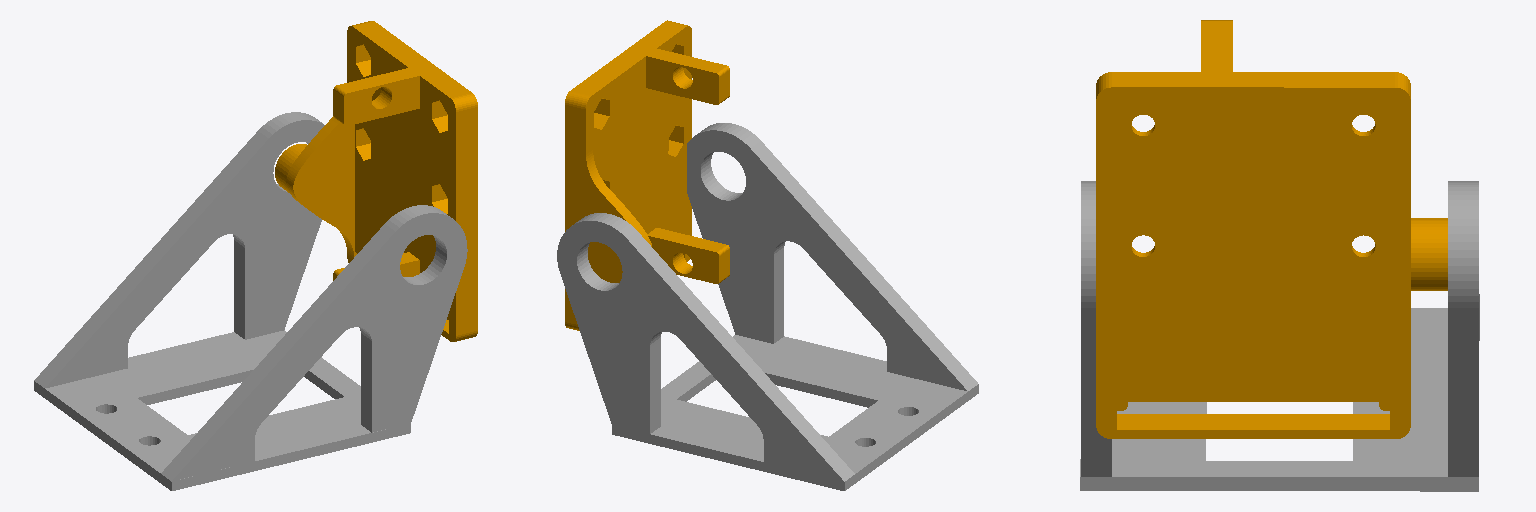
URDF robot description (turtlebot3_burger_chapter4):
<?xml version="1.0" ?>
<robot name="turtlebot3_burger_chapter4"
  xmlns:xacro="http://ros.org/wiki/xacro">
  <!-- <xacro:include filename="$(find turtlebot3_description)/urdf/common_properties.urdf"/> -->

  <!-- Init colour -->
  <material name="black">
      <color rgba="0.0 0.0 0.0 1.0"/>
  </material>

  <material name="dark">
    <color rgba="0.3 0.3 0.3 1.0"/>
  </material>

  <material name="light_black">
    <color rgba="0.4 0.4 0.4 1.0"/>
  </material>

  <material name="blue">
    <color rgba="0.0 0.0 0.8 1.0"/>
  </material>

  <material name="green">
    <color rgba="0.0 0.8 0.0 1.0"/>
  </material>

  <material name="grey">
    <color rgba="0.5 0.5 0.5 1.0"/>
  </material>

  <material name="orange">
    <color rgba="1.0 0.4235 0.0392 1.0"/>
  </material>

  <material name="brown">
    <color rgba="0.8706 0.8118 0.7647 1.0"/>
  </material>

  <material name="red">
    <color rgba="0.8 0.0 0.0 1.0"/>
  </material>

  <material name="white">
    <color rgba="1.0 1.0 1.0 1.0"/>
  </material>

  <link name="base_footprint"/>

  <joint name="base_joint" type="fixed">
    <parent link="base_footprint"/>
    <child link="base_link"/>
    <origin xyz="0.0 0.0 0.010" rpy="0 0 0"/>
  </joint>

  <link name="base_link">
    <visual>
      <origin xyz="-0.032 0 0.0" rpy="0 0 0"/>
      <geometry>
        <mesh filename="package://turtlebot3_description/meshes/bases/burger_base.stl" scale="0.001 0.001 0.001"/>
      </geometry>
      <material name="light_black"/>
    </visual>

    <collision>
      <origin xyz="-0.032 0 0.070" rpy="0 0 0"/>
      <geometry>
        <box size="0.140 0.140 0.143"/>
      </geometry>
    </collision>

    <inertial>
      <origin xyz="0 0 0" rpy="0 0 0"/>
      <mass value="8.2573504e-01"/>
      <inertia ixx="2.2124416e-03" ixy="-1.2294101e-05" ixz="3.4938785e-05" iyy="2.1193702e-03" iyz="-5.0120904e-06" izz="2.0064271e-03" />
    </inertial>
  </link>

  <joint name="wheel_left_joint" type="continuous">
    <parent link="base_link"/>
    <child link="wheel_left_link"/>
    <origin xyz="0.0 0.08 0.023" rpy="-1.57 0 0"/>
    <axis xyz="0 0 1"/>
  </joint>

  <link name="wheel_left_link">
    <visual>
      <origin xyz="0 0 0" rpy="1.57 0 0"/>
      <geometry>
        <mesh filename="package://turtlebot3_description/meshes/wheels/left_tire.stl" scale="0.001 0.001 0.001"/>
      </geometry>
      <material name="dark"/>
    </visual>

    <collision>
      <origin xyz="0 0 0" rpy="0 0 0"/>
      <geometry>
        <cylinder length="0.018" radius="0.033"/>
      </geometry>
    </collision>

    <inertial>
      <origin xyz="0 0 0" />
      <mass value="2.8498940e-02" />
      <inertia ixx="1.1175580e-05" ixy="-4.2369783e-11" ixz="-5.9381719e-09" iyy="1.1192413e-05" iyz="-1.4400107e-11" izz="2.0712558e-05" />
    </inertial>
  </link>

  <joint name="wheel_right_joint" type="continuous">
    <parent link="base_link"/>
    <child link="wheel_right_link"/>
    <origin xyz="0.0 -0.080 0.023" rpy="-1.57 0 0"/>
    <axis xyz="0 0 1"/>
  </joint>

  <link name="wheel_right_link">
    <visual>
      <origin xyz="0 0 0" rpy="1.57 0 0"/>
      <geometry>
        <mesh filename="package://turtlebot3_description/meshes/wheels/right_tire.stl" scale="0.001 0.001 0.001"/>
      </geometry>
      <material name="dark"/>
    </visual>

    <collision>
      <origin xyz="0 0 0" rpy="0 0 0"/>
      <geometry>
        <cylinder length="0.018" radius="0.033"/>
      </geometry>
    </collision>

    <inertial>
      <origin xyz="0 0 0" />
      <mass value="2.8498940e-02" />
      <inertia ixx="1.1175580e-05" ixy="-4.2369783e-11" ixz="-5.9381719e-09" iyy="1.1192413e-05" iyz="-1.4400107e-11" izz="2.0712558e-05" />
    </inertial>
  </link>

  <joint name="caster_back_joint" type="fixed">
    <parent link="base_link"/>
    <child link="caster_back_link"/>
    <origin xyz="-0.081 0 -0.004" rpy="-1.57 0 0"/>
  </joint>

  <link name="caster_back_link">
    <collision>
      <origin xyz="0 0.001 0" rpy="0 0 0"/>
      <geometry>
        <box size="0.030 0.009 0.020"/>
      </geometry>
    </collision>

    <inertial>
      <origin xyz="0 0 0" />
      <mass value="0.005" />
      <inertia ixx="0.001" ixy="0.0" ixz="0.0" iyy="0.001" iyz="0.0" izz="0.001" />
    </inertial>
  </link>

  <joint name="imu_joint" type="fixed">
    <parent link="base_link"/>
    <child link="imu_link"/>
    <origin xyz="-0.032 0 0.068" rpy="0 0 0"/>
  </joint>

  <link name="imu_link"/>

  <joint name="scan_joint" type="fixed">
    <parent link="base_link"/>
    <child link="base_scan"/>
    <origin xyz="-0.032 0 0.172" rpy="0 0 0"/>
  </joint>

  <link name="base_scan">
    <visual>
      <origin xyz="0 0 0.0" rpy="0 0 0"/>
      <geometry>
        <mesh filename="package://turtlebot3_description/meshes/sensors/lds.stl" scale="0.001 0.001 0.001"/>
      </geometry>
      <material name="dark"/>
    </visual>

    <collision>
      <origin xyz="0.015 0 -0.0065" rpy="0 0 0"/>
      <geometry>
        <cylinder length="0.0315" radius="0.055"/>
      </geometry>
    </collision>

    <inertial>
      <mass value="0.114" />
      <origin xyz="0 0 0" />
      <inertia ixx="0.001" ixy="0.0" ixz="0.0" iyy="0.001" iyz="0.0" izz="0.001" />
    </inertial>
  </link>





  <link name="servo_body_adaptor">
    <inertial>
      <origin rpy="0 0 0" xyz="0.017508380613738786 0.03665076441174246 -0.018692871148613267"/>
      <mass value="0.03663252402471866"/>
      <inertia ixx="9e-06" ixy="0.0" ixz="-0.0" iyy="1.3e-05" iyz="3e-06" izz="1.5e-05"/>
    </inertial>
    <visual>
      <origin rpy="0 0 0" xyz="0 0 0"/>
      <geometry>
        <mesh filename="package://chapter4_description/meshes/ServoBodyAdaptor.stl" scale="0.001 0.001 0.001"/>
      </geometry>
      <material name="steel_satin"/>
    </visual>
    <collision>
      <origin rpy="0 0 0" xyz="0 0 0"/>
      <geometry>
        <mesh filename="package://chapter4_description/meshes/ServoBodyAdaptor.stl" scale="0.001 0.001 0.001"/>
      </geometry>
    </collision>
  </link>
  <link name="servo_camera_adaptor">
    <inertial>
      <origin rpy="0 0 0" xyz="-0.01723155709162257 -0.006311136597591031 0.005328056036145849"/>
      <mass value="0.02794339738404158"/>
      <inertia ixx="3e-06" ixy="-0.0" ixz="0.0" iyy="5e-06" iyz="0.0" izz="3e-06"/>
    </inertial>
    <visual>
      <origin rpy="0 0 0" xyz="-0.0335 -0.022434 0.003302"/>
      <geometry>
        <mesh filename="package://chapter4_description/meshes/ServoCameraAdaptor.stl" scale="0.001 0.001 0.001"/>
      </geometry>
      <material name="steel_satin"/>
    </visual>
    <collision>
      <origin rpy="0 0 0" xyz="-0.0335 -0.022434 0.003302"/>
      <geometry>
        <mesh filename="package://chapter4_description/meshes/ServoCameraAdaptor.stl" scale="0.001 0.001 0.001"/>
      </geometry>
    </collision>
  </link>
  <joint name="servo_body_adaptor_joint" type="fixed">
    <parent link="base_link"/>
    <child link="servo_body_adaptor"/>
    <origin xyz="0.08 -0.0175 0.1225" rpy="0 0 1.57"/>
  </joint>
  <joint name="servo_camera_adaptor_joint" type="revolute">
    <origin rpy="0 0 0" xyz="0.0335 0.022434 -0.003302"/>
    <parent link="servo_body_adaptor"/>
    <child link="servo_camera_adaptor"/>
    <axis xyz="-1.0 0.0 0.0"/>
    <limit effort="100" lower="-1.570796" upper="1.570796" velocity="100"/>
  </joint>



  <joint name="camera_joint" type="fixed">
    <origin xyz="0.073 -0.011 0.084" rpy="0 0 0"/>
    <parent link="base_link"/>
    <child link="camera_link"/>
  </joint>

  <link name="camera_link">
    <collision>
      <origin xyz="0.005 0.011 0.013" rpy="0 0 0"/>
      <geometry>
        <box size="0.015 0.030 0.027"/>
      </geometry>
    </collision>
  </link>

  <joint name="camera_rgb_joint" type="fixed">
    <origin xyz="0.003 0.011 0.009" rpy="0 0 0"/>
    <parent link="camera_link"/>
    <child link="camera_rgb_frame"/>
  </joint>
  <link name="camera_rgb_frame"/>

  <joint name="camera_rgb_optical_joint" type="fixed">
    <origin xyz="0 0 0" rpy="-1.57 0 -1.57"/>
    <parent link="camera_rgb_frame"/>
    <child link="camera_rgb_optical_frame"/>
  </joint>
  <link name="camera_rgb_optical_frame"/>


</robot>

--- What the picture shows (computed from the rendered views, not written in the file) ---
3 views of the same robot in one strip: view 1: azimuth 30°, elevation 25°; view 2: azimuth 150°, elevation 25°; view 3: azimuth 270°, elevation 25° (orthographic).
Robot: turtlebot3_burger_chapter4 — 12 links, 11 joints (1 revolute, 2 continuous, 8 fixed); root link base_footprint; default pose: every joint at zero.
Links seen in each view (by area): view 1: servo_body_adaptor, servo_camera_adaptor; view 2: servo_body_adaptor, servo_camera_adaptor; view 3: servo_camera_adaptor, servo_body_adaptor.
Link boxes in pixels (x1,y1,x2,y2): servo_body_adaptor: [34, 112, 467, 490]; servo_camera_adaptor: [275, 21, 477, 341]; servo_body_adaptor: [557, 123, 978, 490]; servo_camera_adaptor: [565, 20, 729, 330]; servo_camera_adaptor: [1096, 20, 1447, 438]; servo_body_adaptor: [1080, 181, 1479, 491].
Size in the robot's own frame: 0.0496 by 0.038 by 0.0478 metres.
2 mesh visuals loaded from 6 distinct referenced files (2 binary STL); not drawn: 4 (reference not matched to a file when rendering).